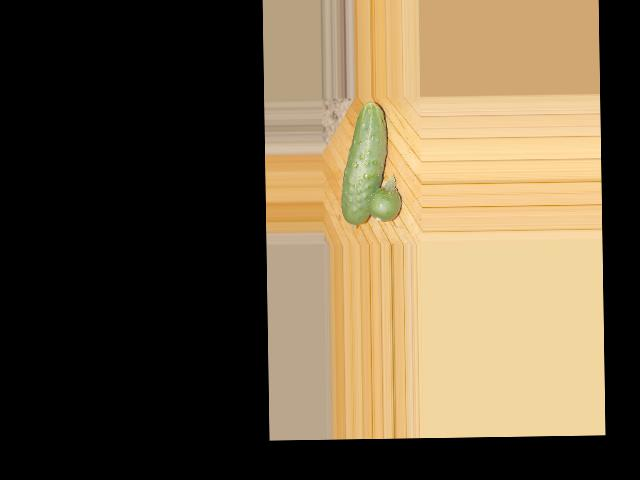cucumber: (340, 101, 389, 225)
